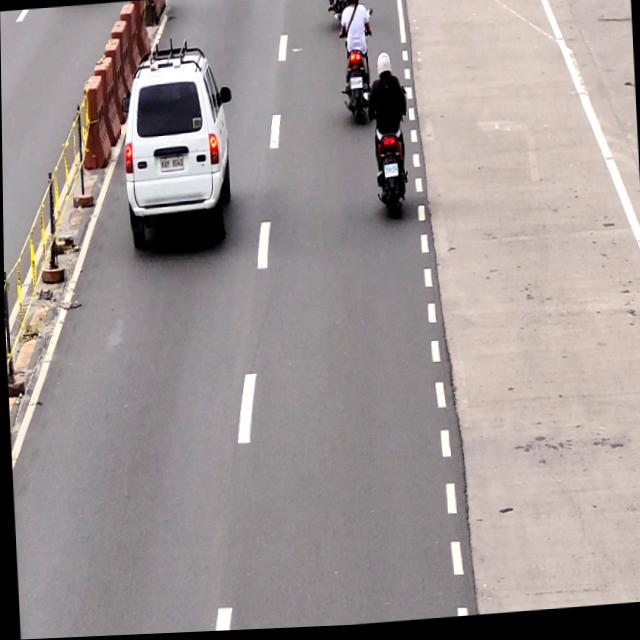Car: (117, 40, 232, 257)
License-Plate: (157, 154, 183, 175), (382, 165, 398, 181), (349, 80, 364, 91)
Motorcycle: (368, 53, 410, 221), (333, 0, 375, 123)
